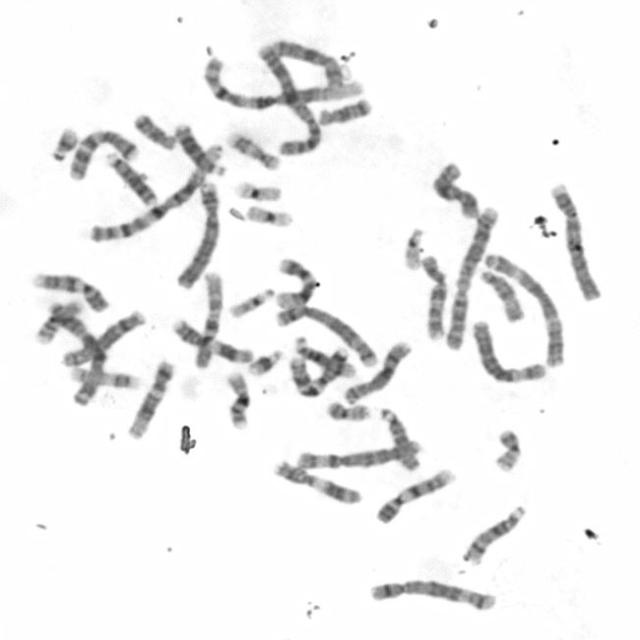A1: (86, 140, 226, 246), (199, 54, 364, 112)
A2: (441, 203, 500, 350), (252, 40, 324, 158)
A3: (480, 250, 567, 370), (42, 298, 106, 408)
B4: (546, 179, 604, 302), (170, 177, 222, 291)
B5: (271, 300, 380, 370), (364, 576, 498, 614)
C10: (188, 266, 226, 372), (417, 251, 450, 344)
C11: (269, 456, 363, 506), (167, 315, 254, 365)
C12: (123, 356, 175, 440), (275, 255, 316, 309)
C6: (469, 316, 546, 384), (291, 435, 424, 474)
C7: (65, 124, 141, 182), (284, 342, 352, 399)
C8: (57, 305, 148, 368), (340, 336, 412, 404)
C9: (371, 464, 457, 526), (29, 268, 110, 314)
D13: (100, 148, 158, 208), (170, 119, 227, 178)
D14: (458, 502, 528, 565), (292, 332, 356, 379)
D15: (377, 403, 423, 474), (476, 266, 526, 324)
E16: (32, 297, 84, 346), (222, 368, 253, 430)
E17: (224, 128, 282, 173), (67, 363, 142, 392)
E18: (130, 110, 177, 151), (314, 95, 373, 127)
F19: (242, 200, 294, 230), (232, 177, 282, 204)
F20: (490, 424, 524, 474), (322, 398, 372, 422)
G21: (46, 123, 80, 164), (245, 345, 285, 377)
G22: (226, 284, 276, 319), (400, 223, 426, 272)
X: (261, 36, 347, 88), (428, 160, 482, 220)
